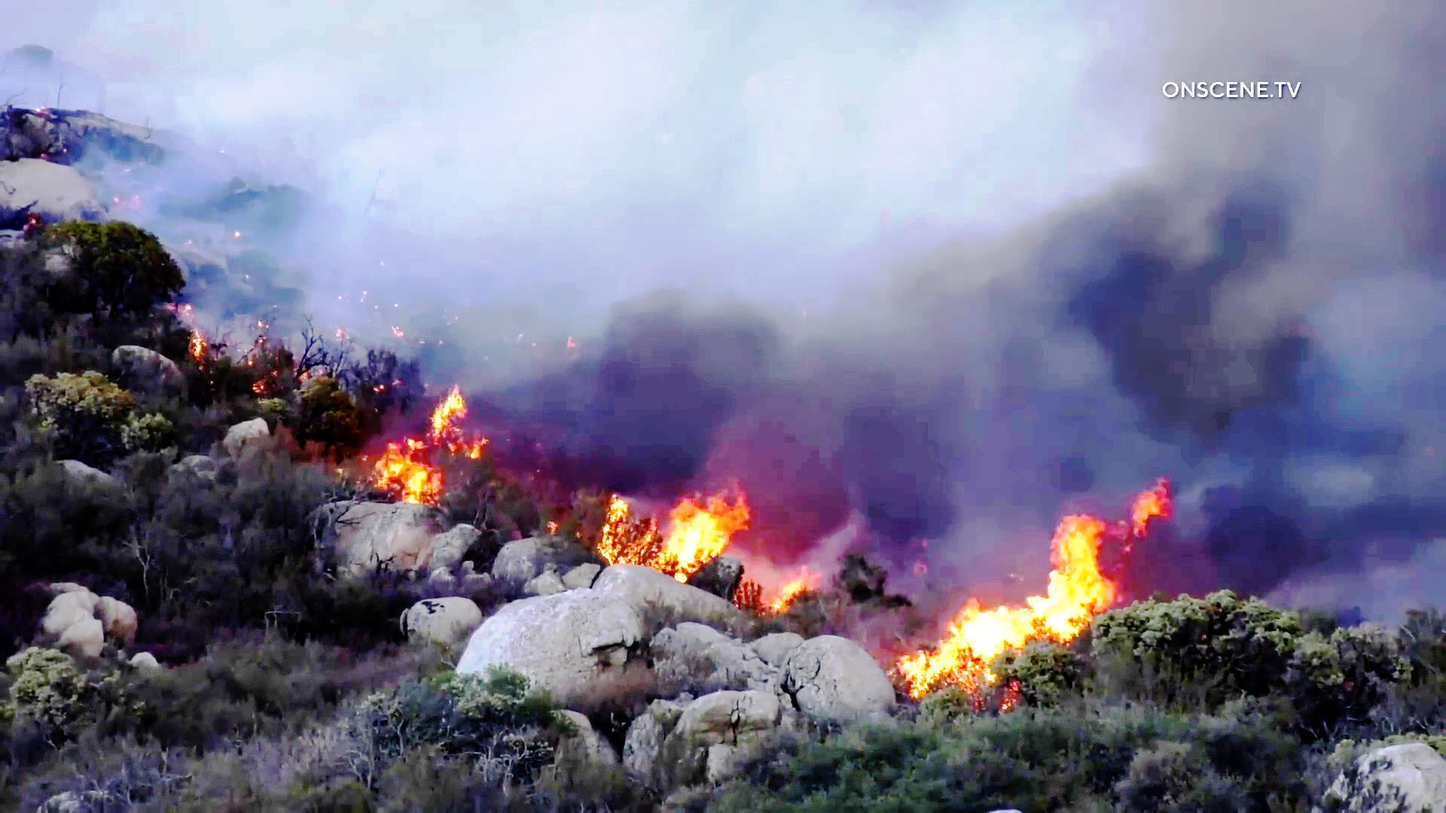fire: (932, 540, 1145, 684), (603, 482, 786, 616), (328, 379, 462, 527)
smoke: (703, 157, 1370, 463)
